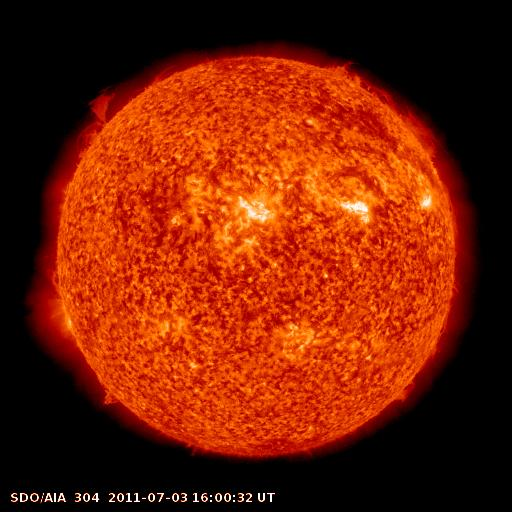prominence: (313, 55, 399, 112), (72, 86, 118, 162), (402, 103, 444, 158), (136, 62, 189, 91), (90, 385, 135, 414), (44, 265, 73, 297), (393, 375, 421, 407)
